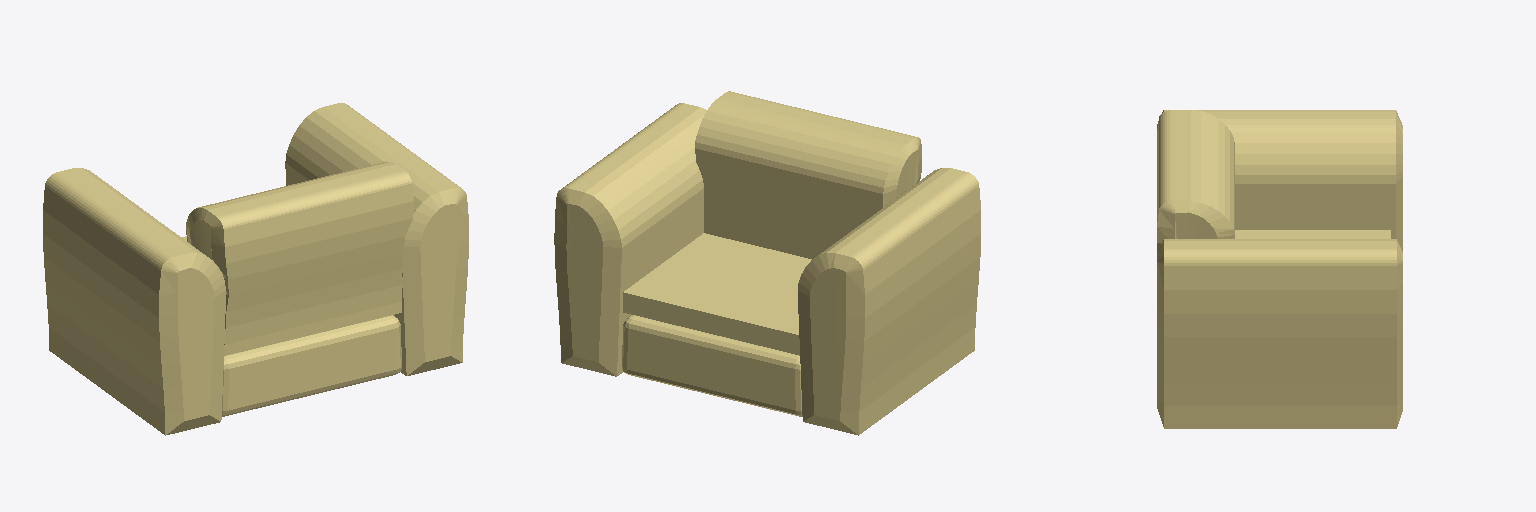
File: sofi.obj
3 views of the same model, side by side, from view 1: azimuth 30°, elevation 25°; view 2: azimuth 150°, elevation 25°; view 3: azimuth 270°, elevation 25° (orthographic).
Parts seen in each view (by area): view 1: sandaran001; view 2: sandaran001; view 3: sandaran001.
Part boxes in pixels (left/top/right/bottom): sandaran001: left=43, top=103, right=468, bottom=435; sandaran001: left=554, top=91, right=980, bottom=435; sandaran001: left=1157, top=110, right=1402, bottom=428.
Size of the model in its own units: 3727 by 2314 by 2565.